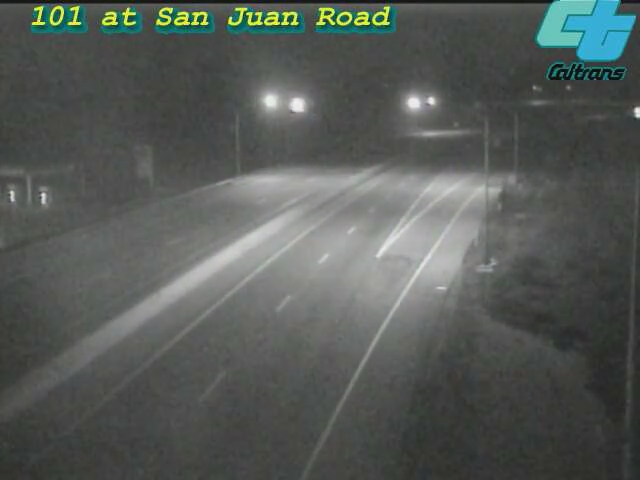vehicle: (613, 88, 640, 138)
